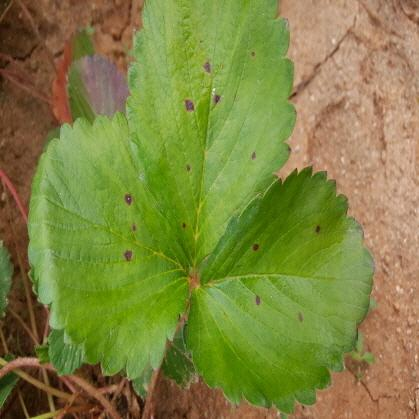Leaf Spot: (181, 163, 375, 414), (123, 0, 297, 275), (26, 110, 196, 379)
